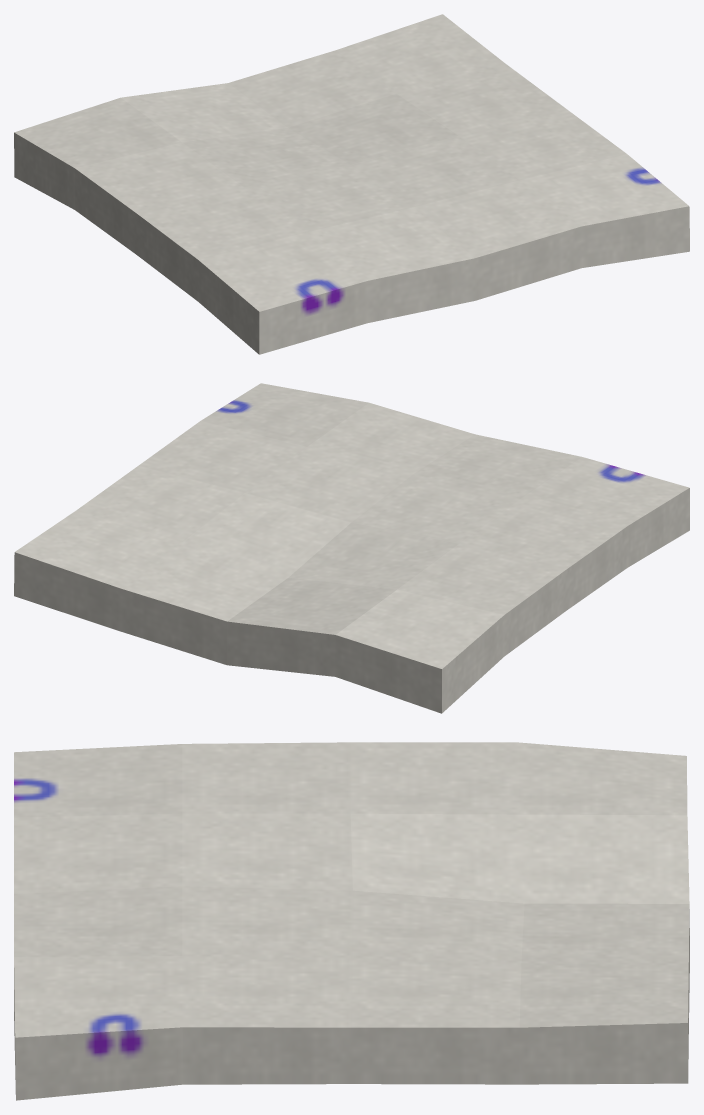
File: Epidermisbawah.fbx
3 renders of one model, top to bottom at view 1: azimuth 30°, elevation 25°; view 2: azimuth 150°, elevation 25°; view 3: azimuth 270°, elevation 25°, orthographic. The views are drawn at different scales.
Visible parts, largest first — view 1: Sphere.003; view 2: Sphere.003; view 3: Sphere.003.
Part boxes in pixels (x1=…): Sphere.003: x1=14, y1=14, x2=689, y2=354; Sphere.003: x1=14, y1=383, x2=689, y2=713; Sphere.003: x1=14, y1=742, x2=689, y2=1100.
Size of the model in its own units: 202 by 27.25 by 201.
Materials: 1 (1 with a texture image).
